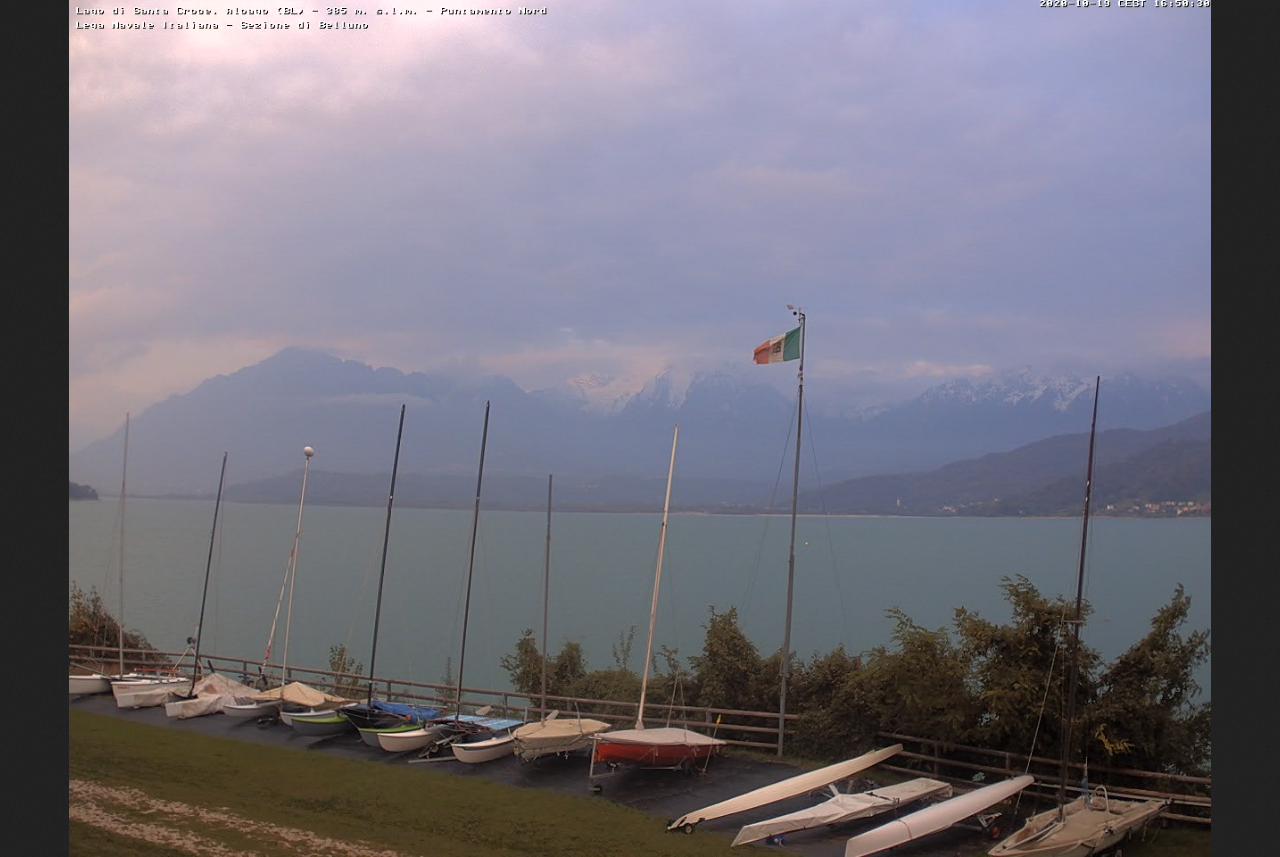yes: (747, 317, 809, 372)
